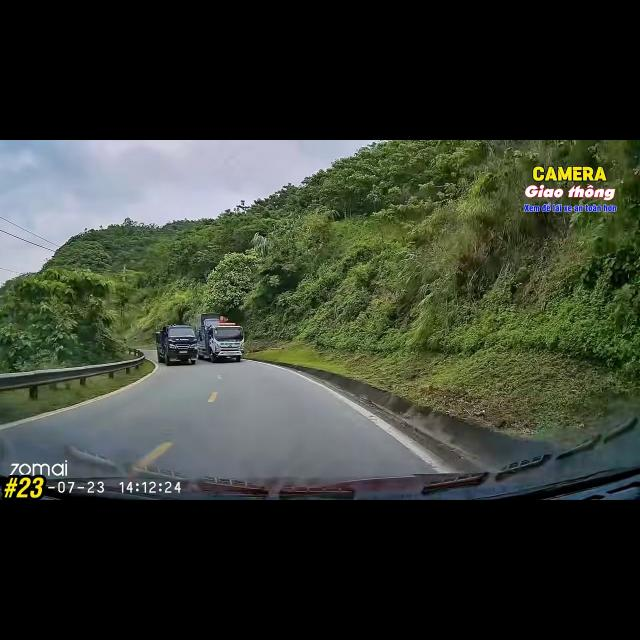truck: (195, 313, 244, 362), (156, 325, 196, 365)
